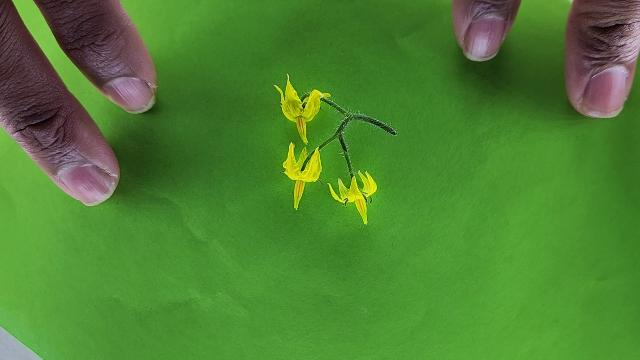Anthesis: (274, 71, 330, 147), (281, 140, 324, 211), (327, 170, 377, 225)
